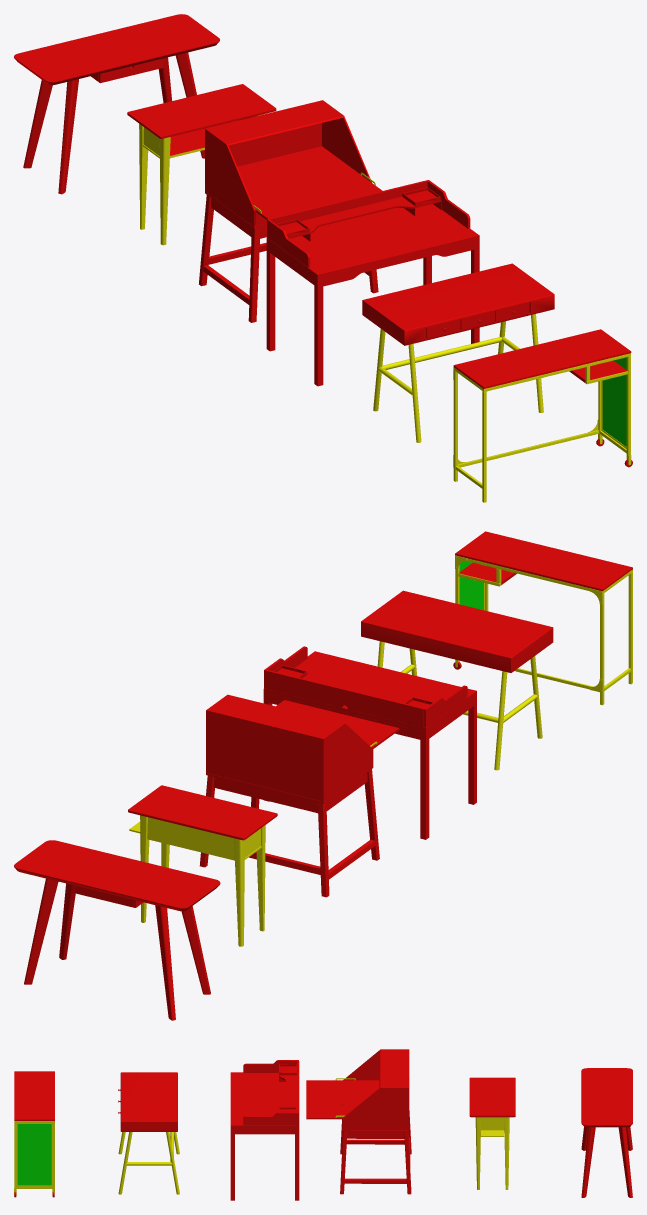
Rendered from RoboTHOR_desks_grp.fbx.
The picture shows the model from 3 angles, top to bottom: view 1: azimuth 30°, elevation 25°; view 2: azimuth 150°, elevation 25°; view 3: azimuth 270°, elevation 25°; orthographic projection. The views are drawn at different scales.
Visible parts, largest first — view 1: robothor_desk_alve, robothor_desk_gustav, robothor_desk_lillasen, robothor_desk_lisabo, robothor_desk_fjallbo, robothor_desk_norrasen, ps_robothor_desk_norrasen; view 2: robothor_desk_alve, robothor_desk_gustav, robothor_desk_lisabo, robothor_desk_lillasen, robothor_desk_norrasen, robothor_desk_fjallbo; view 3: robothor_desk_alve, robothor_desk_gustav, robothor_desk_fjallbo, robothor_desk_lillasen, robothor_desk_lisabo, robothor_desk_norrasen.
Part boxes in pixels (<box>): robothor_desk_alve: <box>199,100,382,322</box>; robothor_desk_gustav: <box>266,180,479,386</box>; robothor_desk_lillasen: <box>362,263,554,442</box>; robothor_desk_lisabo: <box>14,14,219,194</box>; robothor_desk_fjallbo: <box>453,329,632,502</box>; robothor_desk_norrasen: <box>127,84,276,245</box>; ps_robothor_desk_norrasen: <box>170,116,254,155</box>; robothor_desk_alve: <box>199,694,399,897</box>; robothor_desk_gustav: <box>263,646,476,839</box>; robothor_desk_lisabo: <box>14,840,220,1020</box>; robothor_desk_lillasen: <box>361,590,553,770</box>; robothor_desk_norrasen: <box>128,785,277,946</box>; robothor_desk_fjallbo: <box>453,531,632,705</box>; robothor_desk_alve: <box>306,1049,411,1194</box>; robothor_desk_gustav: <box>230,1060,299,1200</box>; robothor_desk_fjallbo: <box>14,1071,54,1197</box>; robothor_desk_lillasen: <box>118,1072,179,1194</box>; robothor_desk_lisabo: <box>581,1068,632,1197</box>; robothor_desk_norrasen: <box>469,1077,515,1189</box>.
Bounding box in the file's own units: 118 × 101 × 541.
